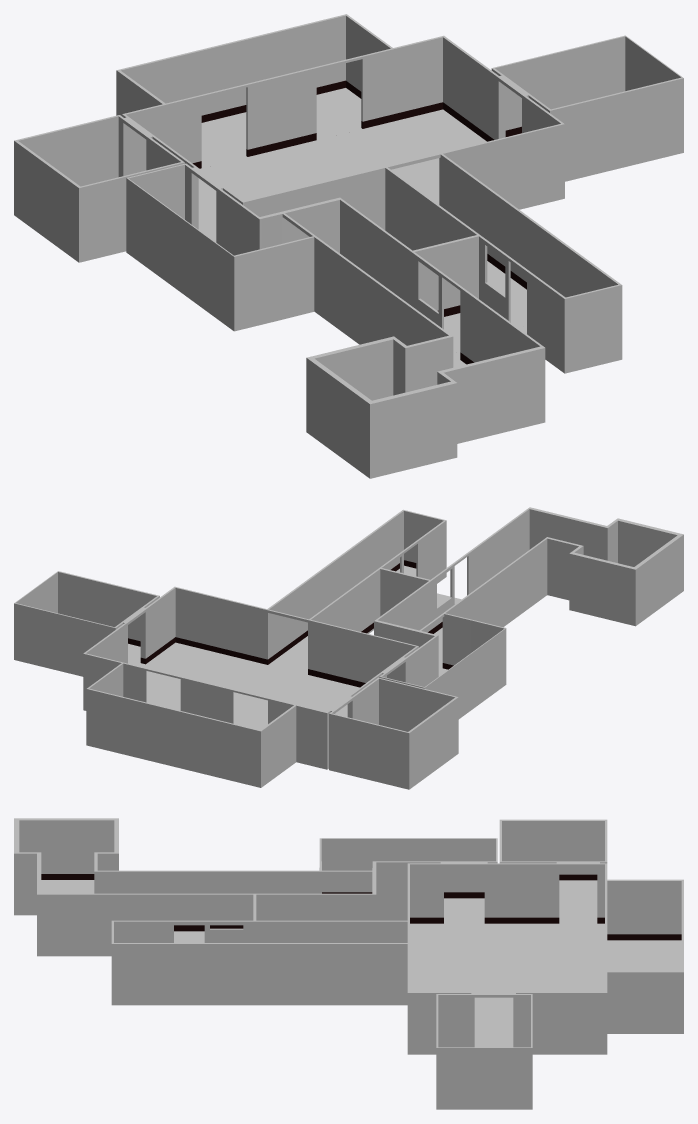
Rendered from Toy Store.obj.
3 renders of one model, top to bottom at view 1: azimuth 30°, elevation 25°; view 2: azimuth 150°, elevation 25°; view 3: azimuth 270°, elevation 25°, orthographic. The views are drawn at different scales.
Visible parts, largest first — view 1: Environment_Cube; view 2: Environment_Cube; view 3: Environment_Cube.
Part boxes in pixels (box(x1,y1,x2,y2)): Environment_Cube: box(14, 14, 683, 478); Environment_Cube: box(14, 507, 683, 789); Environment_Cube: box(14, 818, 683, 1109).
Size of the model in its own units: 18.64 by 2.33 by 22.99.
